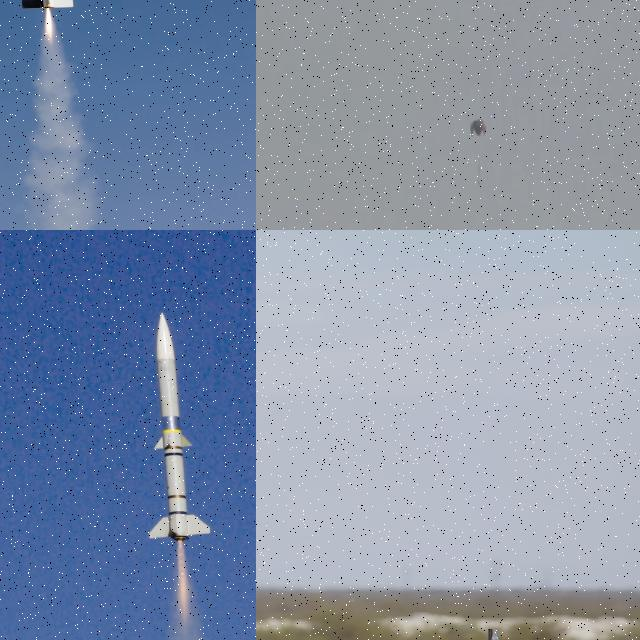Rocket: (144, 310, 213, 543), (478, 162, 480, 187)
